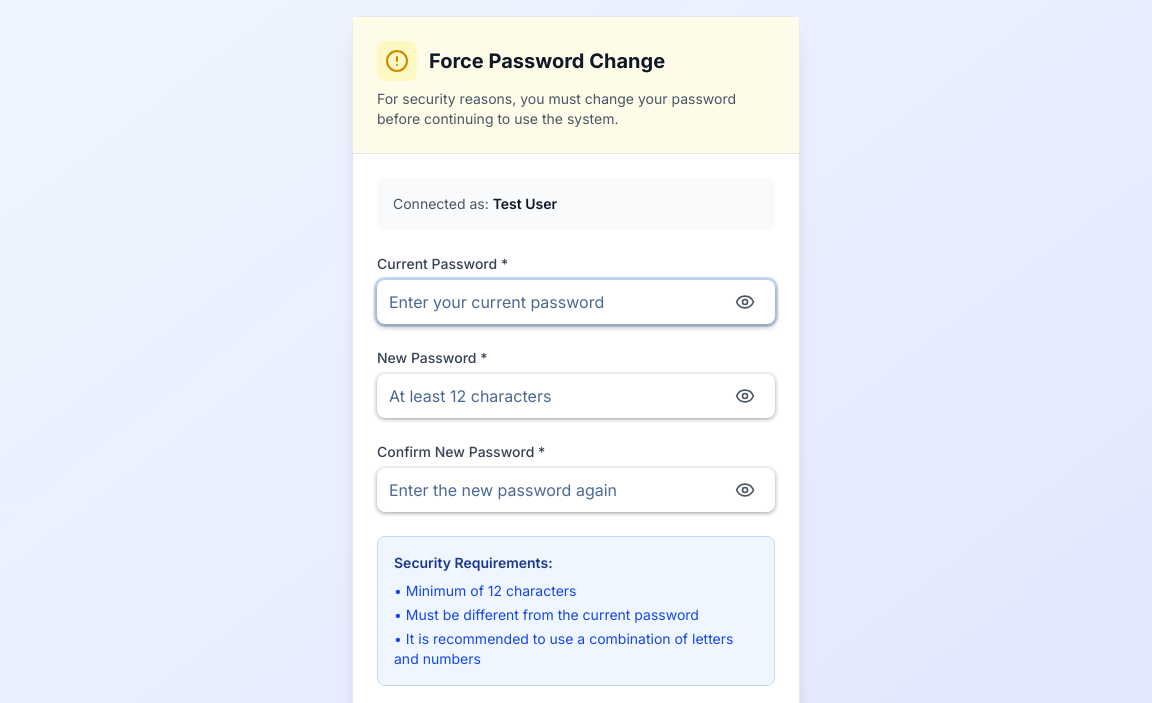
Scenario: ForcePasswordChangePage › Password submission and error handling › should handle unexpected errors gracefully
The image size is (1152, 703).
Type "SomePassword123" into the password field with placeholder "Enter your current password" at {"x": 576, "y": 302}, box [377, 280, 775, 324]
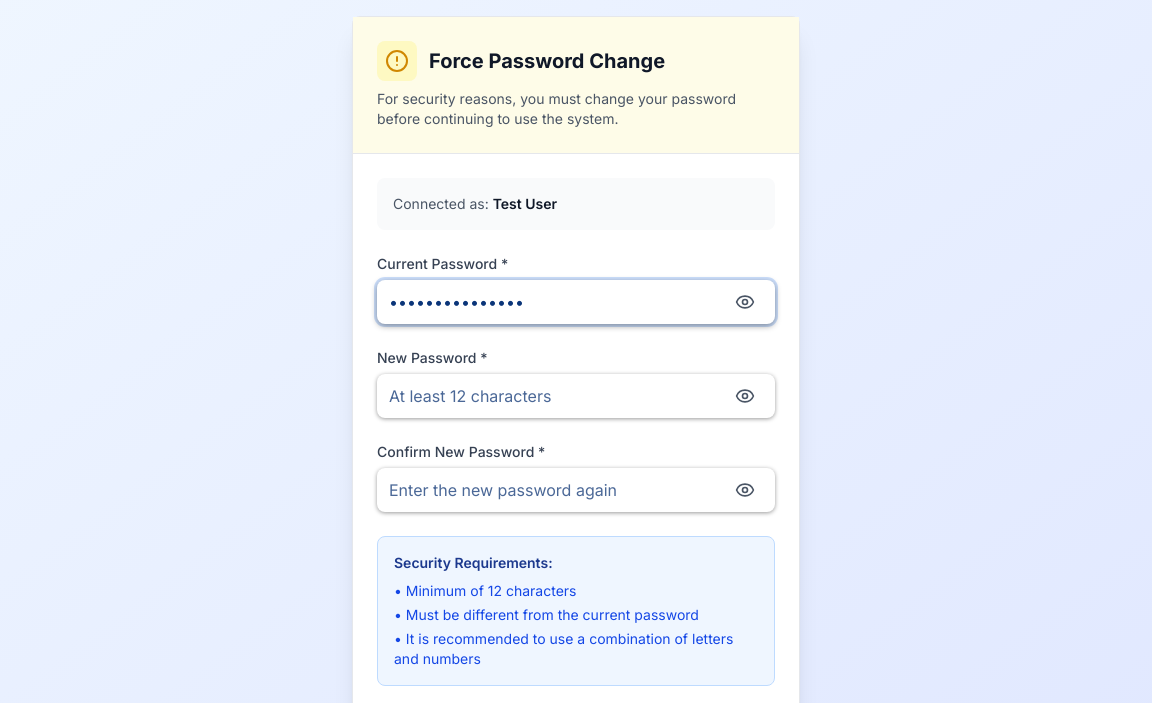
Type "NewValidPassword123" into the password field with placeholder "At least 12 characters" at {"x": 576, "y": 396}, box [377, 374, 775, 418]
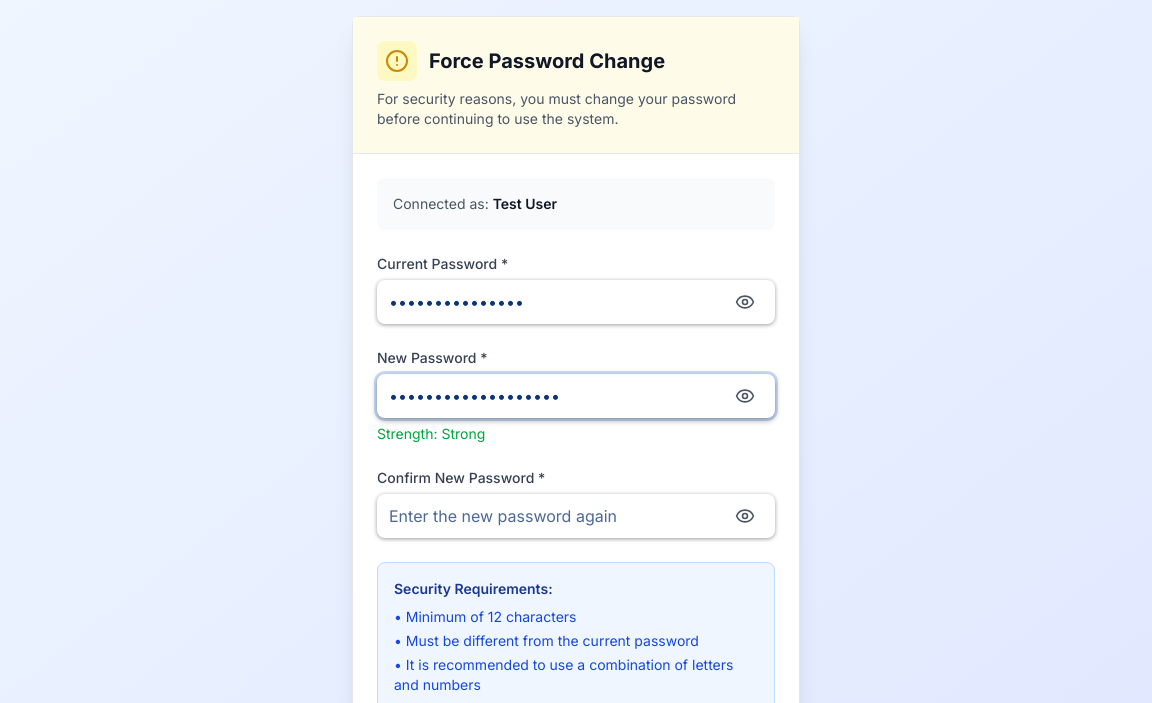
Type "NewValidPassword123" into the password field with placeholder "Enter the new password again" at {"x": 576, "y": 516}, box [377, 494, 775, 538]
(page scrolled)
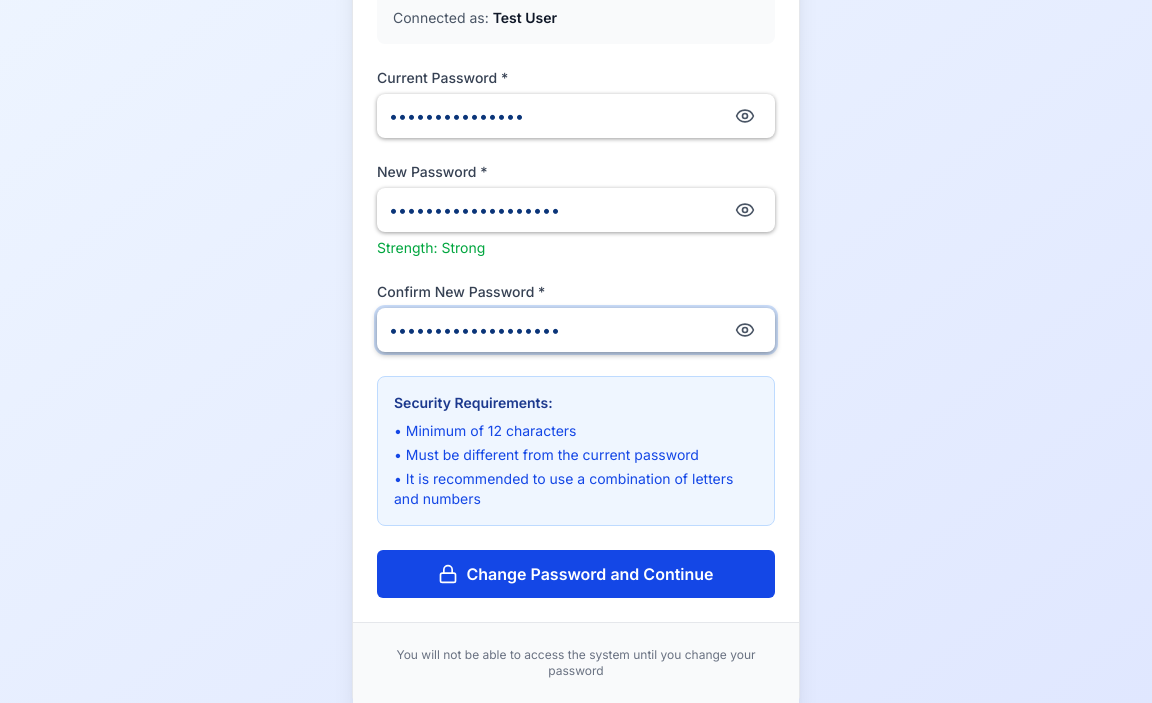
Click the button "Change Password and Continue" at {"x": 576, "y": 574}, box [377, 550, 775, 598]
(page scrolled)
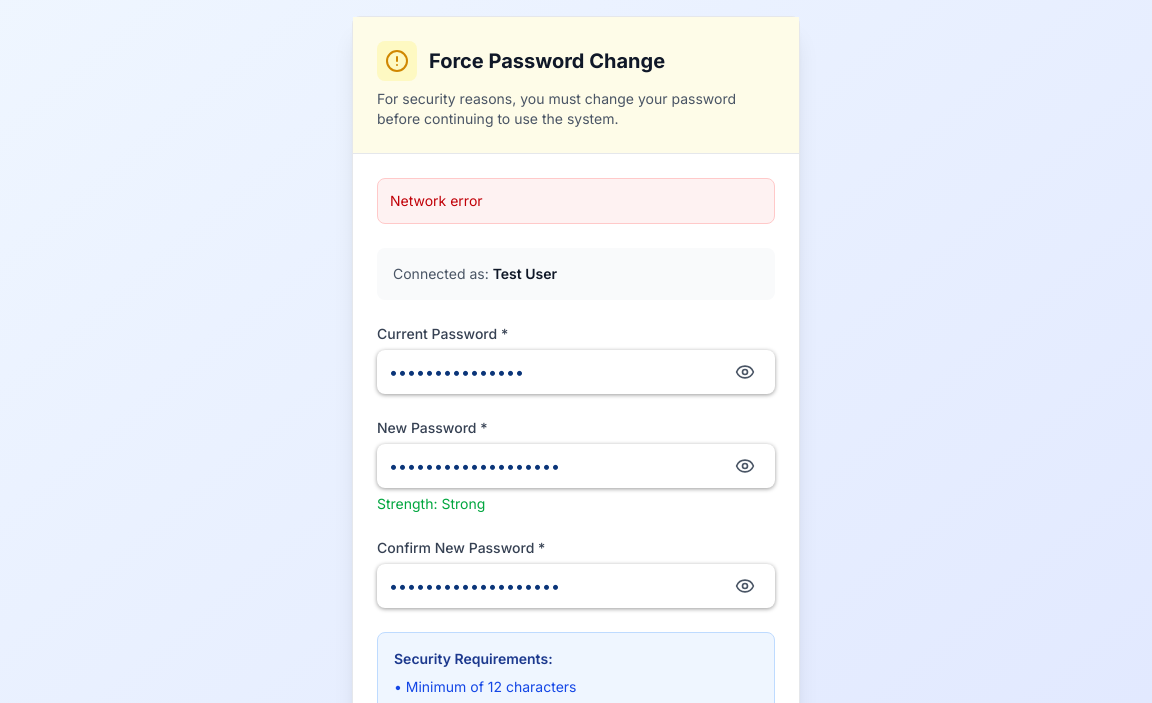
Expected: the text "Network error" is shown, [377, 178, 775, 224]
